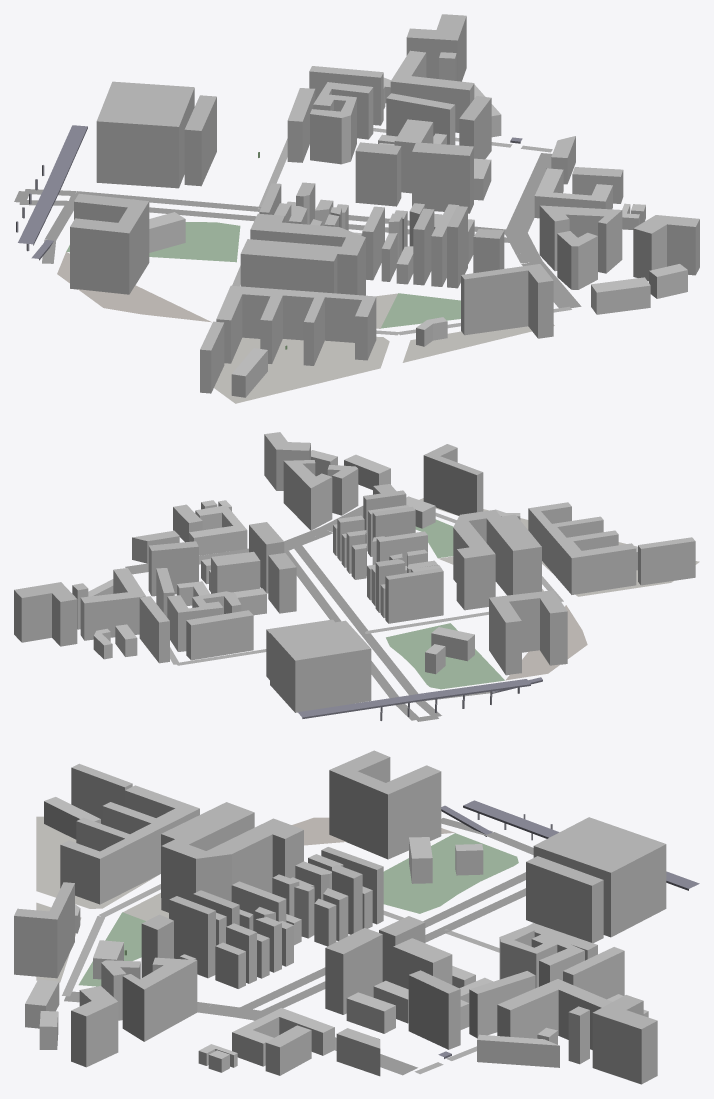
The picture shows the model from 3 angles, top to bottom: view 1: azimuth 30°, elevation 25°; view 2: azimuth 150°, elevation 25°; view 3: azimuth 270°, elevation 25°; orthographic projection. The views are drawn at different scales.
Size of the model in its own units: 543 by 62.2 by 574.
